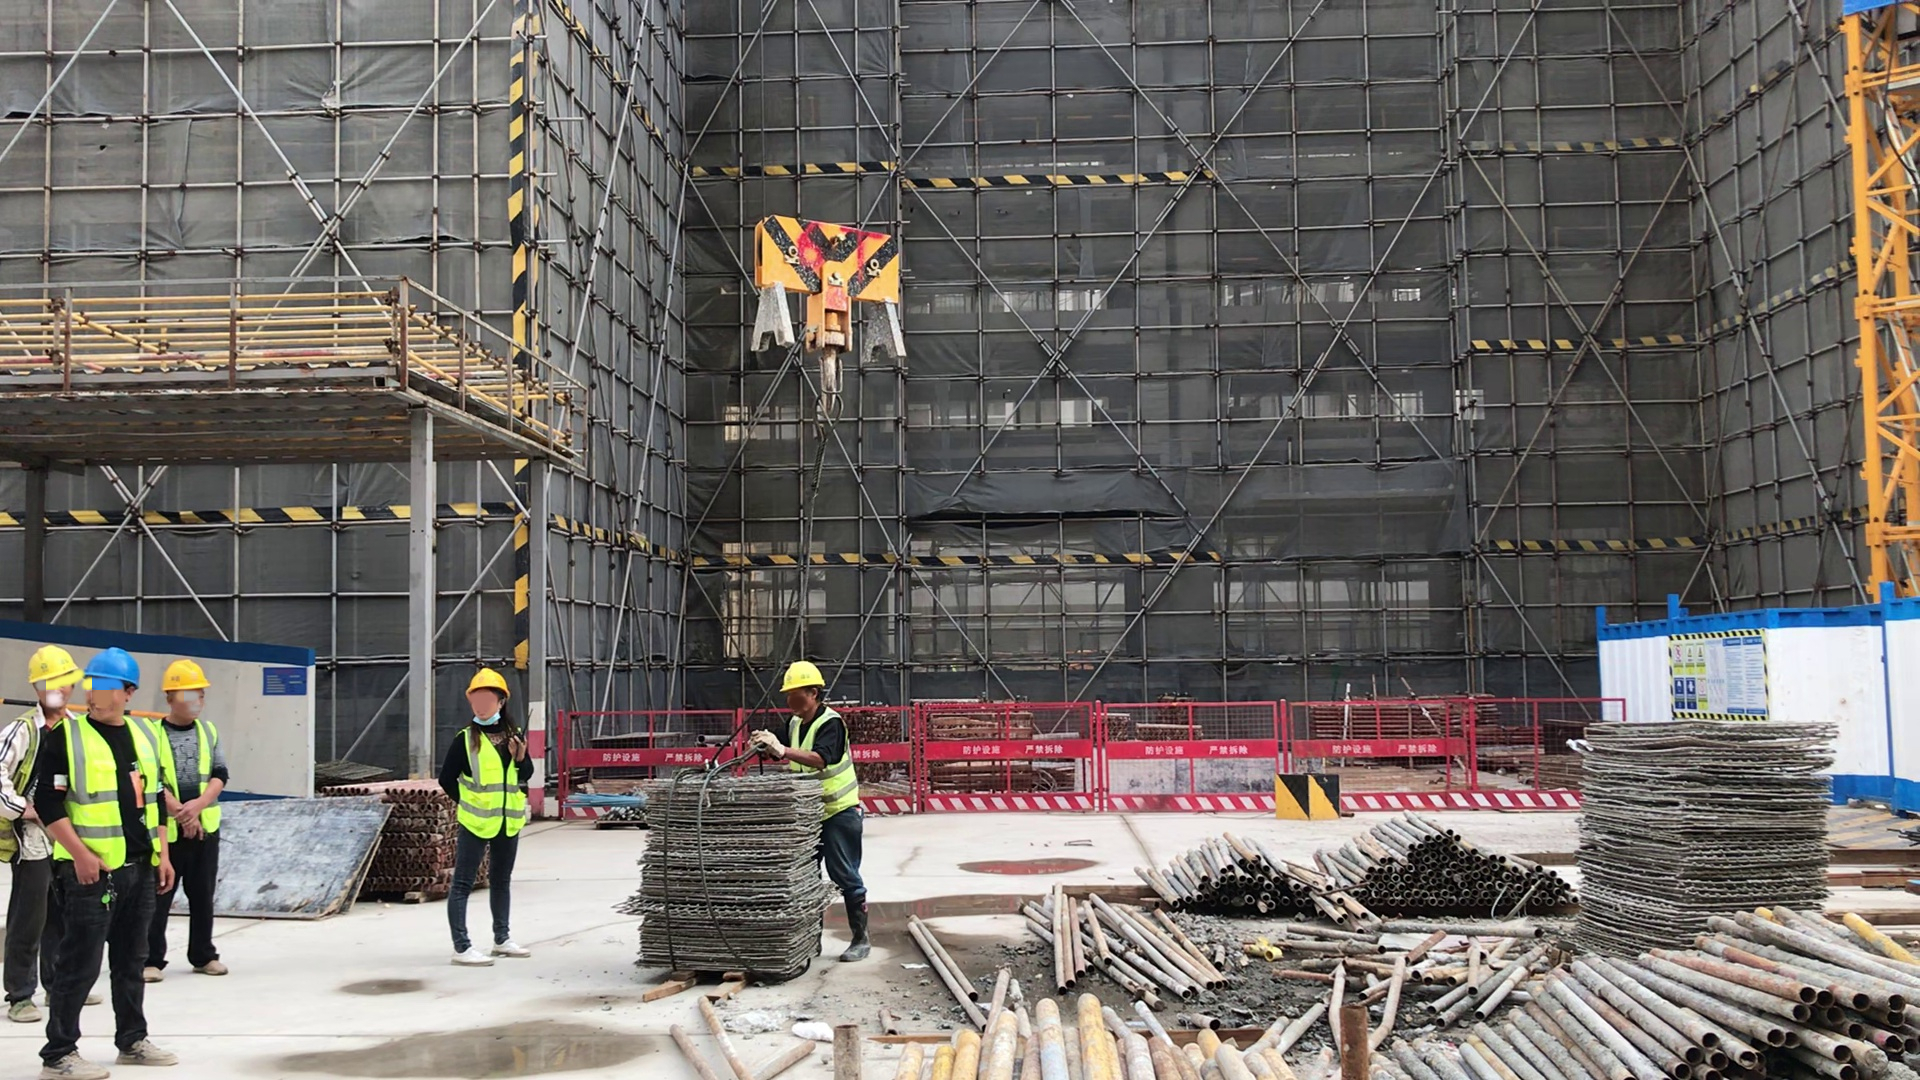fence: (558, 701, 1621, 822)
helmet: (85, 643, 139, 688), (25, 646, 74, 683), (779, 660, 827, 692), (466, 666, 511, 695), (165, 661, 204, 692)
hook: (752, 212, 908, 418)
person: (41, 660, 178, 1080), (1, 645, 105, 1025), (749, 661, 870, 964), (433, 664, 536, 972), (141, 660, 228, 984)
scaffold: (1583, 723, 1829, 938), (643, 776, 819, 980), (374, 787, 465, 897)
vest: (54, 715, 156, 869), (152, 715, 221, 838), (456, 723, 528, 839), (789, 706, 858, 816)
